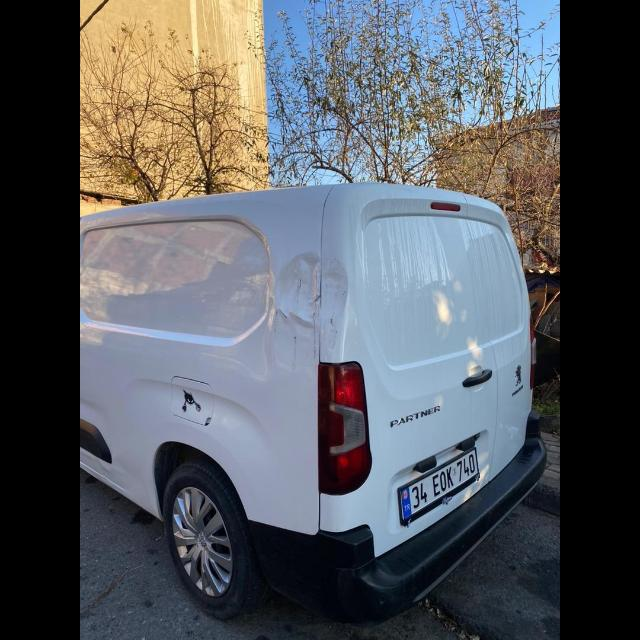Plaka: (402, 448, 480, 520)
